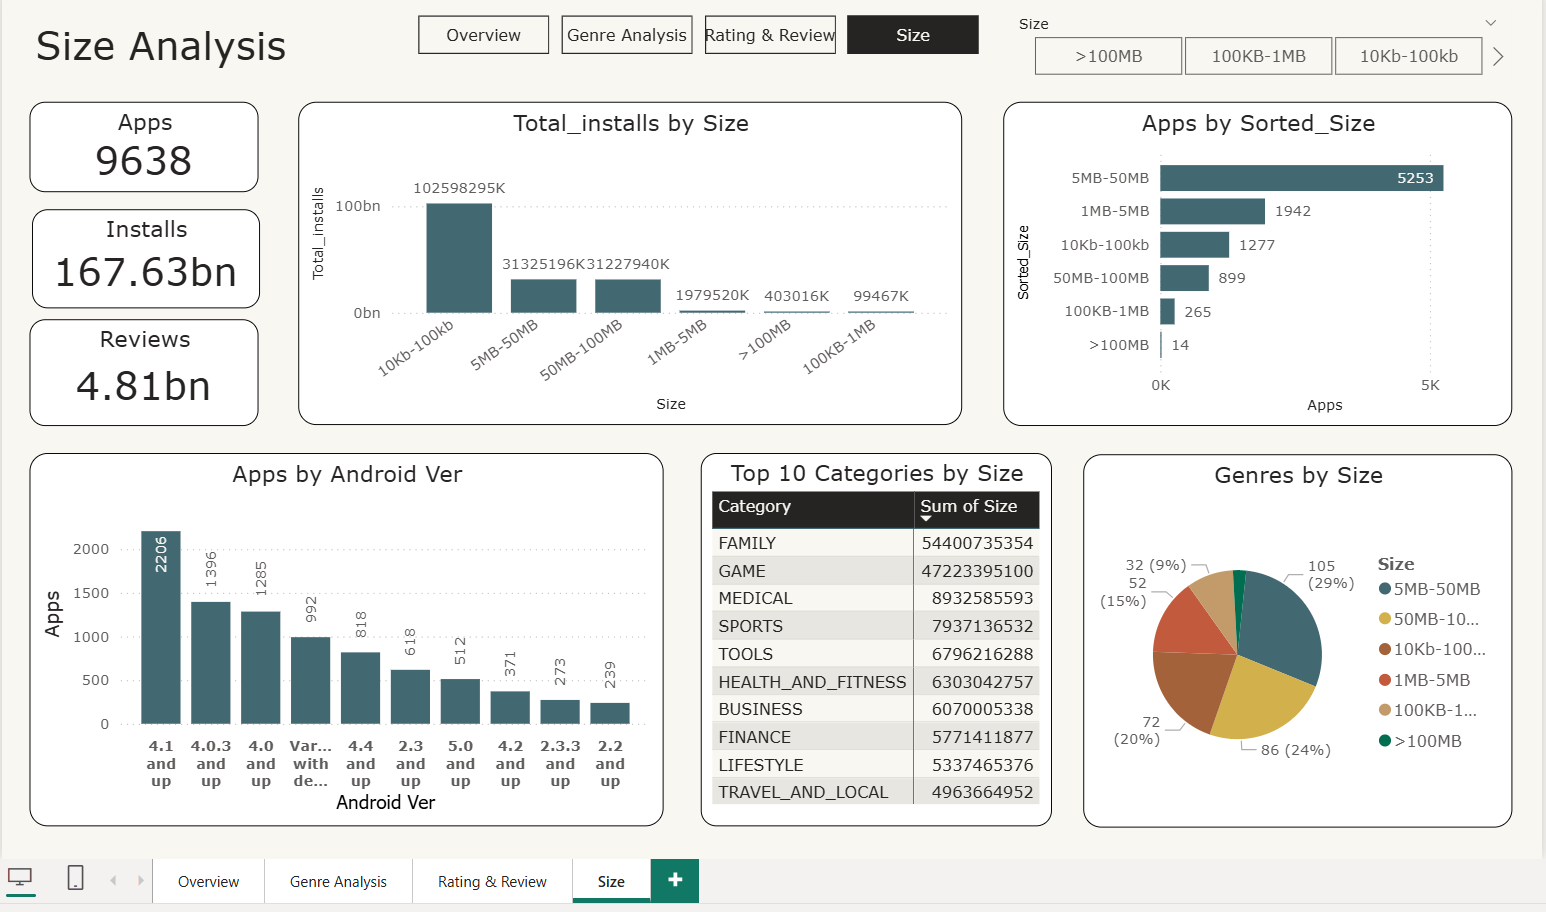

What the dashboard file says about the page in this screenshot:
{"tool":"powerbi","page":{"name":"Size","canvas":[1280,720],"ordinal":3},"visuals":[{"type":"card","title":"Apps","fields":{"Values":["Measure Analysis.Apps"]},"box":[23.3,90.6,190.7,75.5],"z":0},{"type":"card","title":"Reviews","fields":{"Values":["Measure Analysis.Total_reviews"]},"box":[23.3,271.7,190.7,89.2],"z":1000},{"type":"columnChart","fields":{"Category":["Google_playStore.Sorted_Size"],"Y":["Measure Analysis.Total_installs"]},"box":[246.5,90.7,552.3,268.6],"z":2000},{"type":"pieChart","fields":{"Category":["Google_playStore.Sorted_Size"],"Y":["Measure Analysis.Total Genres"]},"box":[898.8,383.7,357,310.5],"z":3000},{"type":"barChart","fields":{"Y":["Measure Analysis.Apps"],"Category":["Google_playStore.Sorted_Size"]},"box":[832.6,90.7,423.3,269.8],"z":4000},{"type":"pivotTable","title":"Top 10 Categories by Size","fields":{"Rows":["Google_playStore.Category"],"Values":["Sum(Google_playStore.Size)"]},"box":[580.4,382.8,292.3,310.1],"z":5000},{"type":"columnChart","fields":{"Category":["Google_playStore.Android Ver"],"Y":["Measure Analysis.Apps"]},"box":[23.3,382.8,526.9,310.1],"z":6000},{"type":"slicer","fields":{"Values":["Google_playStore.Sorted_Size"]},"box":[832.9,13.7,422.6,61.7],"z":7000},{"type":"textbox","box":[23.3,19.2,240.1,65.9],"z":8000},{"type":"card","title":"Installs","fields":{"Values":["Measure Analysis.Total_installs"]},"box":[24.7,179.8,189.4,82.3],"z":9000},{"type":"pageNavigator","box":[345.8,19.2,469.3,32.9],"z":10000}]}

Visuals, with their boxes on the page's 1280x720 design canvas (x1, y1, x2, y2). These are canvas units, not pixel positions in the 1546x912 screenshot, which may show the page scaled, cropped or inside an application window:
"Apps" card: crop(23, 91, 214, 166)
"Reviews" card: crop(23, 272, 214, 361)
columnChart - Google_playStore.Sorted_Size x Measure Analysis.Total_installs: crop(246, 91, 799, 359)
pieChart - Google_playStore.Sorted_Size x Measure Analysis.Total Genres: crop(899, 384, 1256, 694)
barChart - Measure Analysis.Apps x Google_playStore.Sorted_Size: crop(833, 91, 1256, 360)
"Top 10 Categories by Size" pivotTable: crop(580, 383, 873, 693)
columnChart - Google_playStore.Android Ver x Measure Analysis.Apps: crop(23, 383, 550, 693)
slicer - Google_playStore.Sorted_Size: crop(833, 14, 1256, 75)
textbox: crop(23, 19, 263, 85)
"Installs" card: crop(25, 180, 214, 262)
pageNavigator: crop(346, 19, 815, 52)
